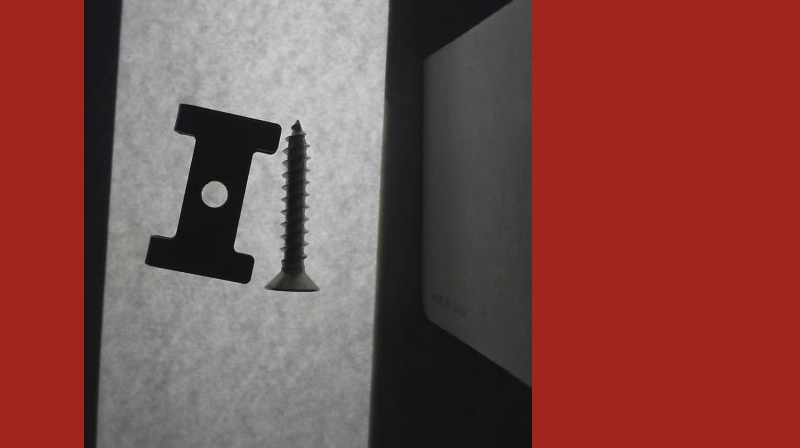O002: (145, 100, 282, 286)
S001: (262, 117, 320, 294)
